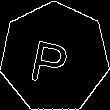P_N: (32, 29, 78, 86)
